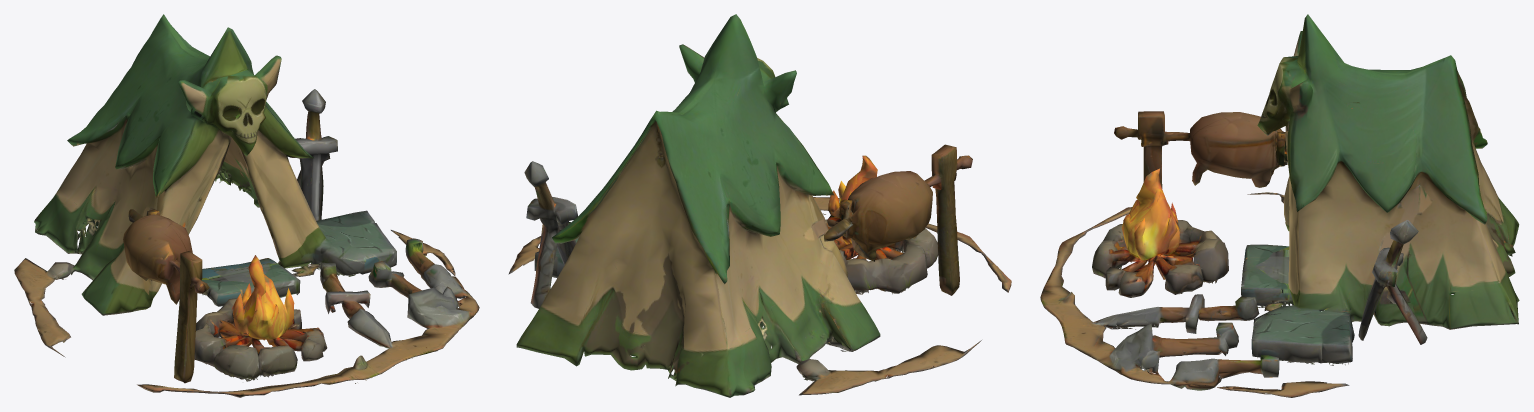
Rendered from goblin-warren.glb.
The picture shows the model from 3 angles, left to right: view 1: azimuth 30°, elevation 25°; view 2: azimuth 150°, elevation 25°; view 3: azimuth 270°, elevation 25°; orthographic projection. The views are drawn at different scales.
Bounding box in the file's own units: 1.97 × 1.3 × 1.97.
1 material, 1 textured.
